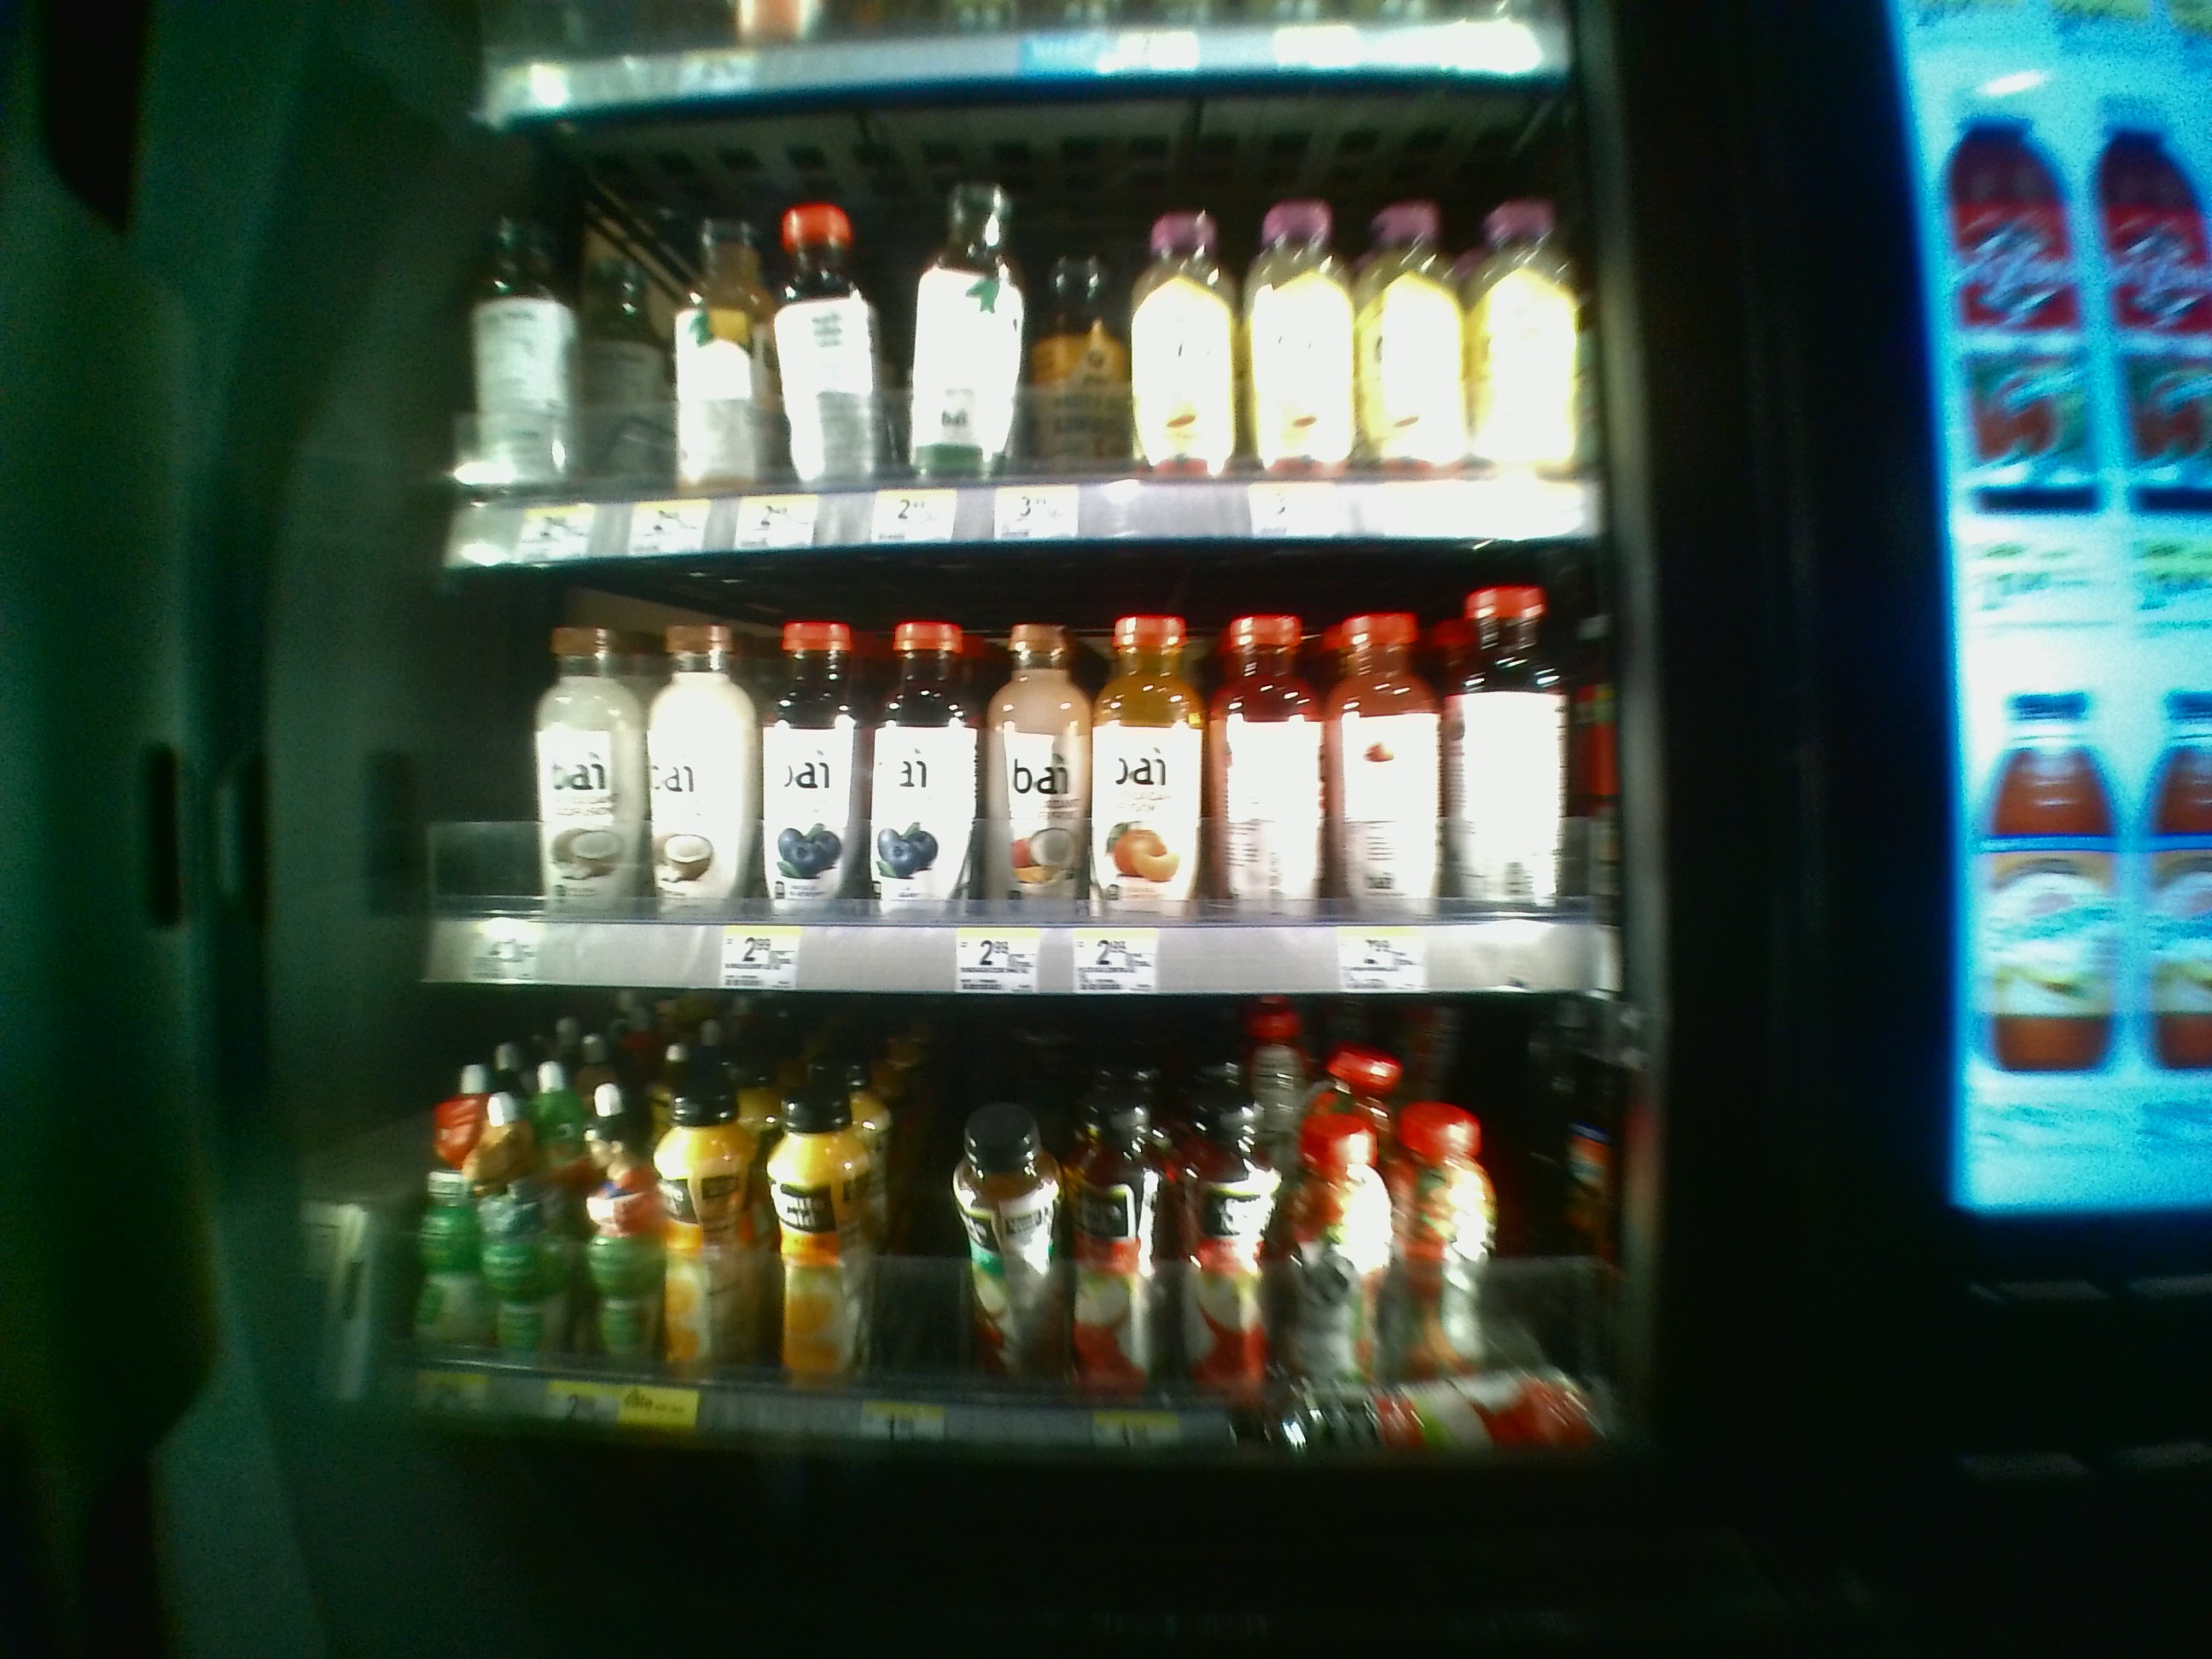shelf: (399, 990, 1630, 1471), (394, 563, 1634, 983)
